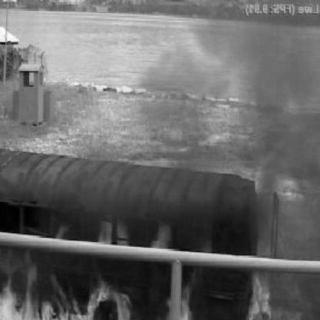Fire: (2, 185, 320, 318)
